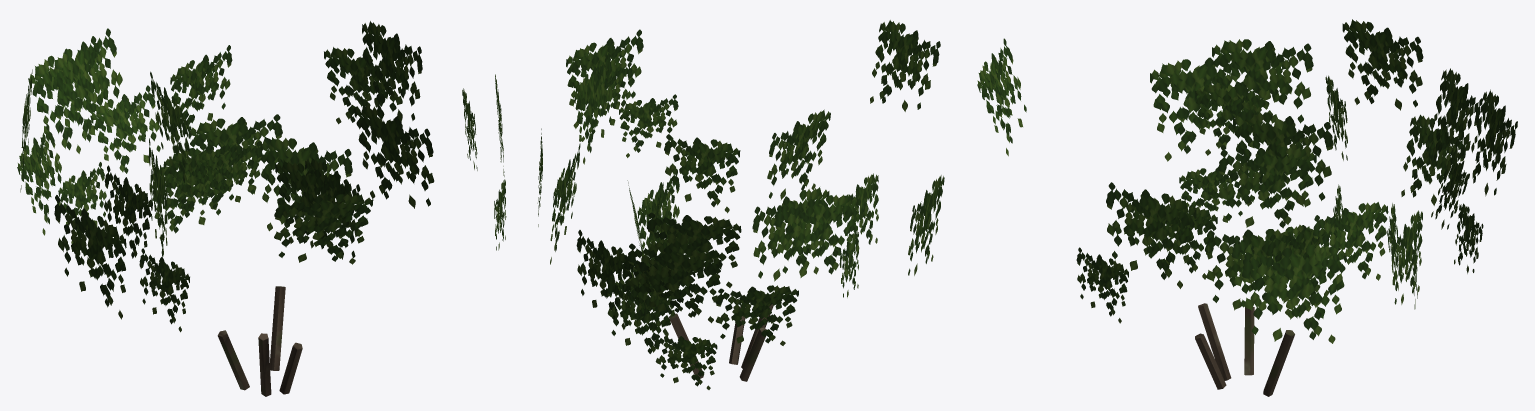
Rendered from Bush_1.fbx.
3 renders of one model, left to right at view 1: azimuth 30°, elevation 25°; view 2: azimuth 150°, elevation 25°; view 3: azimuth 270°, elevation 25°, orthographic. The views are drawn at different scales.
Parts seen in each view (by area): view 1: Bush_1; view 2: Bush_1; view 3: Bush_1.
Part boxes in pixels (x1,y1,x2,y2): Bush_1: (17, 21, 506, 396); Bush_1: (537, 20, 944, 389); Bush_1: (977, 19, 1517, 396).
Size of the model in its own units: 2.41 by 1.73 by 2.81.
